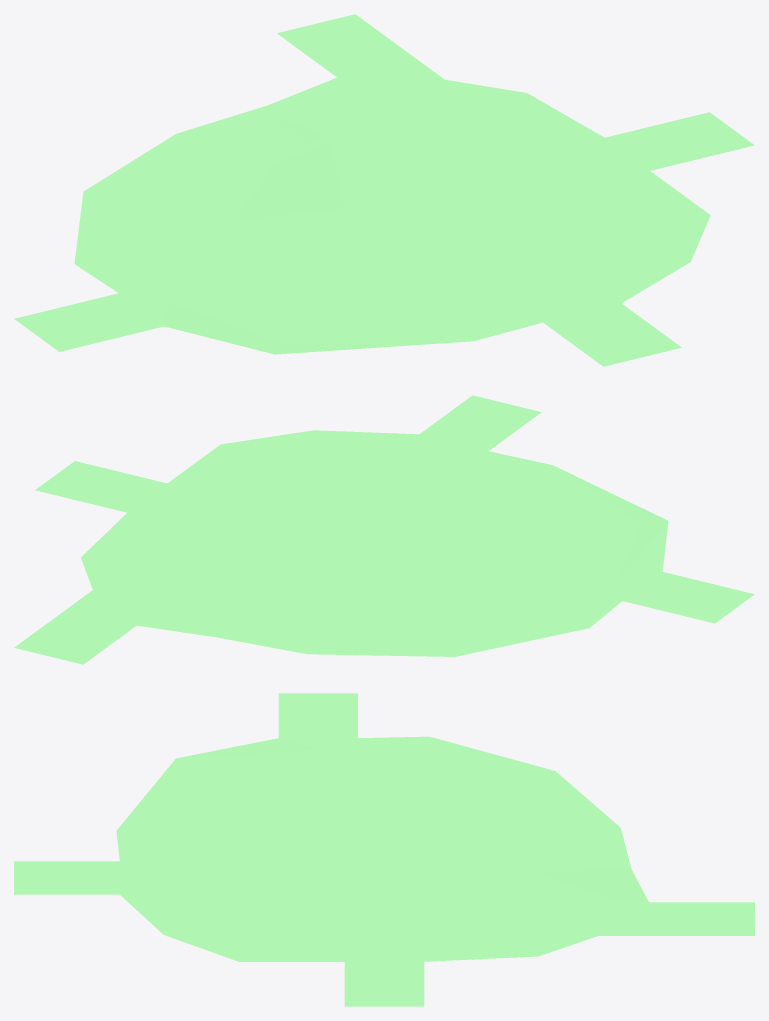
File: s04a_xb2-floor.glb
3 views of the same model, one above another, from view 1: azimuth 30°, elevation 25°; view 2: azimuth 150°, elevation 25°; view 3: azimuth 270°, elevation 25° (orthographic). The views are drawn at different scales.
Visible parts, largest first — view 1: collision_floor-colonly; view 2: collision_floor-colonly; view 3: collision_floor-colonly.
Boxes of the visible parts, left/top/right/bottom form: collision_floor-colonly: left=15, top=14, right=753, bottom=366; collision_floor-colonly: left=14, top=395, right=753, bottom=664; collision_floor-colonly: left=14, top=693, right=754, bottom=1006.
Size of the model in its own units: 56 by 0.2344 by 56.
